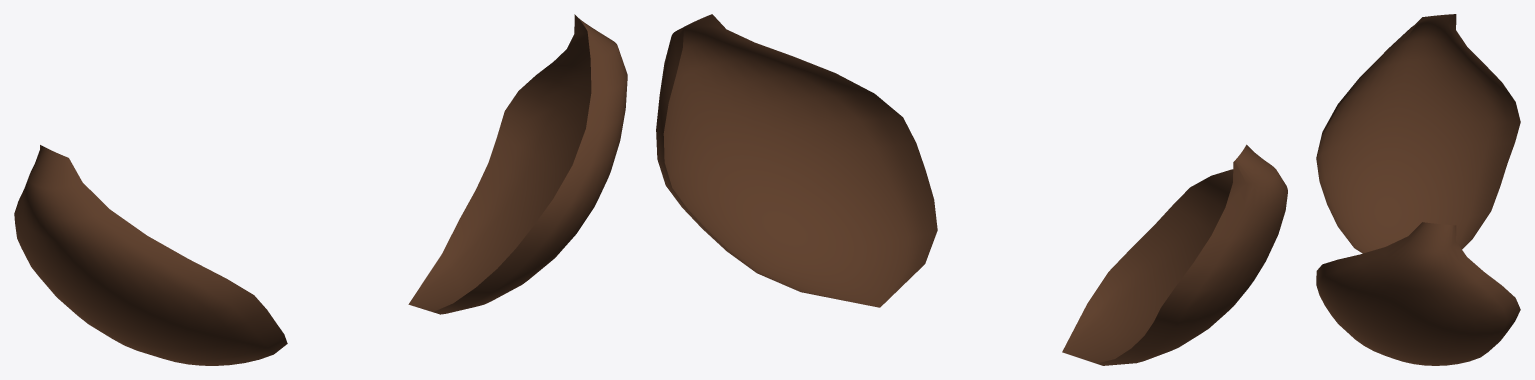
Rendered from beard_mutton.glb.
3 views of the same model, side by side, from view 1: azimuth 30°, elevation 25°; view 2: azimuth 150°, elevation 25°; view 3: azimuth 270°, elevation 25° (orthographic). The views are drawn at different scales.
Visible parts, largest first — view 1: BeardMutton; view 2: BeardMutton; view 3: BeardMutton.
Part boxes in pixels (x1,y1,x2,y2): BeardMutton: (14, 14, 627, 365); BeardMutton: (656, 14, 1287, 365); BeardMutton: (1316, 14, 1520, 365).
Size of the model in its own units: 0.5287 by 0.2029 by 0.1956.
